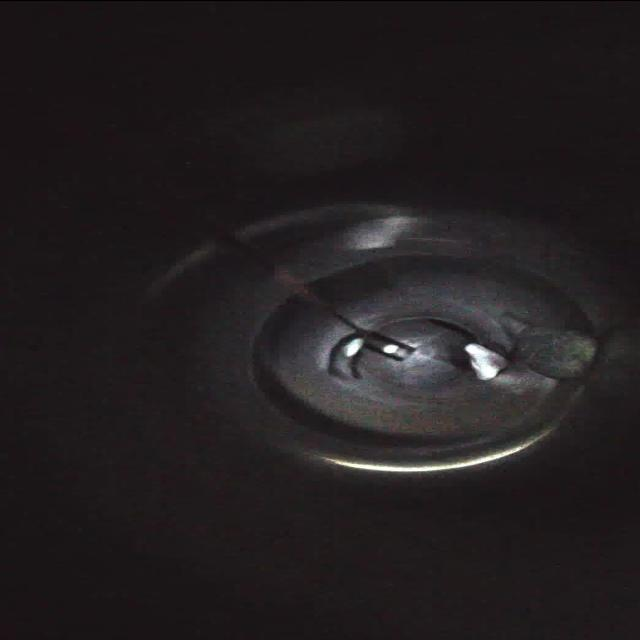impurity: (514, 323, 603, 381), (456, 341, 510, 383)
